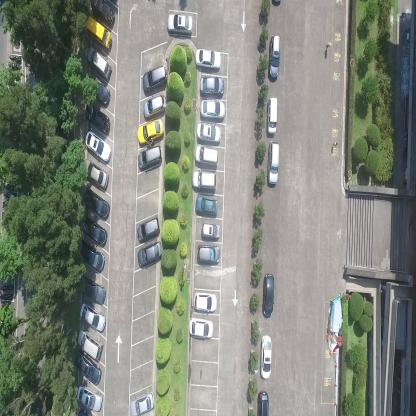car: (74, 350, 102, 386), (76, 327, 104, 362), (83, 129, 112, 162), (81, 158, 109, 192), (85, 16, 112, 49), (84, 101, 110, 135), (80, 216, 108, 247), (86, 46, 112, 78), (79, 240, 104, 273), (78, 301, 106, 330), (83, 189, 110, 219), (75, 384, 103, 412), (137, 116, 163, 145), (137, 239, 163, 268), (142, 63, 167, 93), (81, 276, 106, 304), (87, 78, 111, 107), (91, 0, 115, 29), (138, 143, 162, 171), (259, 334, 273, 381), (142, 92, 167, 118), (267, 138, 280, 186), (268, 33, 281, 80), (193, 290, 218, 314), (130, 390, 154, 415), (166, 13, 192, 36), (188, 318, 214, 340), (199, 100, 225, 122), (195, 48, 221, 70), (138, 216, 160, 242), (197, 122, 222, 144), (196, 244, 220, 266), (194, 194, 218, 216), (199, 75, 225, 95), (265, 96, 278, 135), (195, 144, 218, 166), (191, 171, 217, 190), (264, 273, 274, 320), (199, 221, 220, 239), (256, 390, 269, 415)
